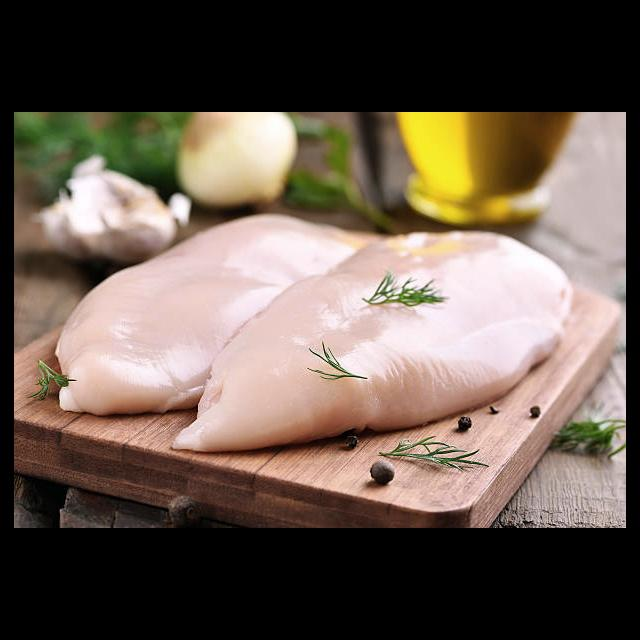chicken: (185, 233, 573, 457), (56, 215, 353, 410)
